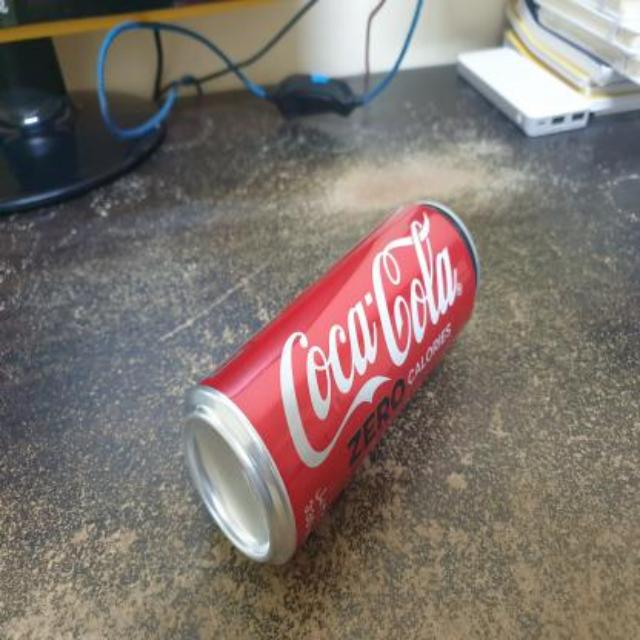metal: (183, 200, 475, 560)
